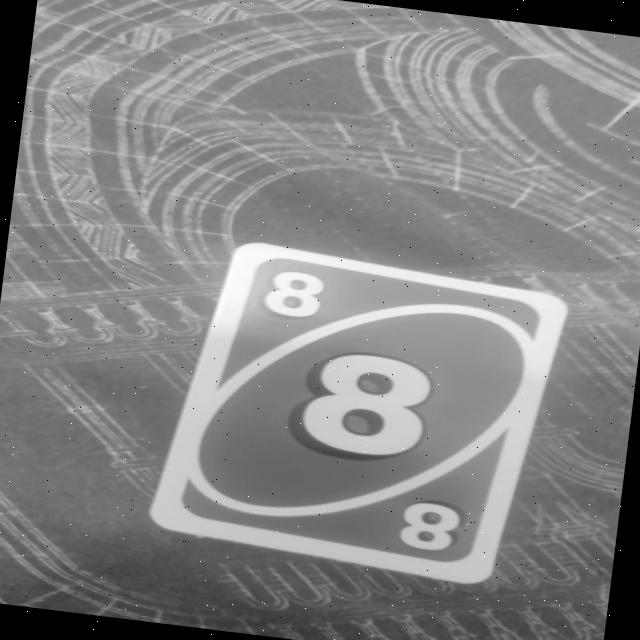card_8: (142, 231, 571, 592)
